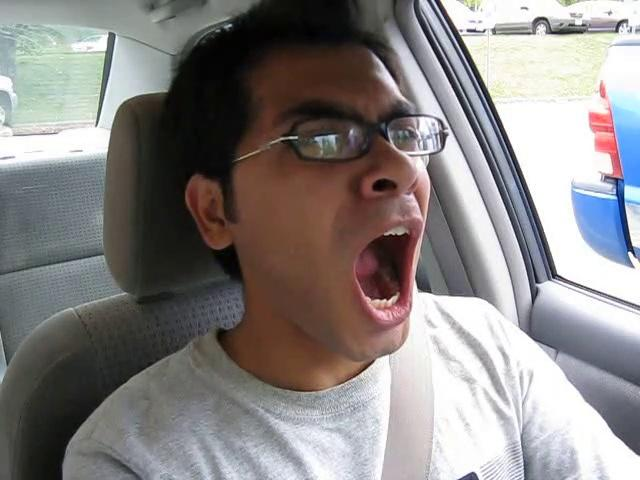close_eyeL: (370, 113, 440, 159)
close_eyeR: (280, 117, 363, 164)
yawn: (334, 217, 435, 339)
